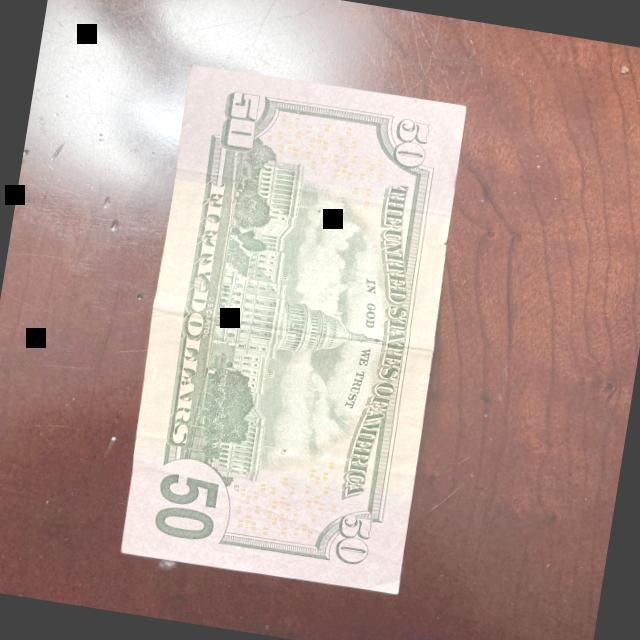fifty: (112, 58, 478, 598)
